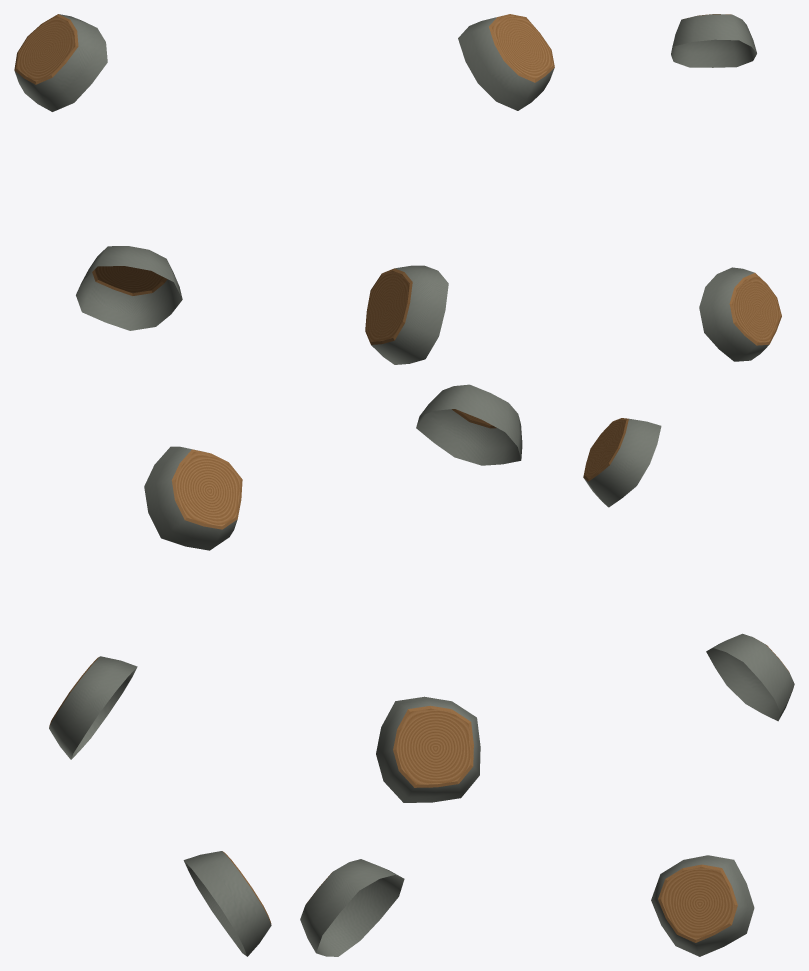
The model's file is Beech_Mature_02_MediumPruned_Recent_LOD1.fbx.
3 renders of one model, left to right at view 1: azimuth 30°, elevation 25°; view 2: azimuth 150°, elevation 25°; view 3: azimuth 270°, elevation 25°, orthographic. The views are drawn at different scales.
Visible parts, largest first — view 1: Beech_Mature_02_MediumPruned_Recent_LOD1_Scars; view 2: Beech_Mature_02_MediumPruned_Recent_LOD1_Scars; view 3: Beech_Mature_02_MediumPruned_Recent_LOD1_Scars.
Boxes of the visible parts, <box> form: Beech_Mature_02_MediumPruned_Recent_LOD1_Scars: <box>14,14,271,956</box>; Beech_Mature_02_MediumPruned_Recent_LOD1_Scars: <box>300,14,554,956</box>; Beech_Mature_02_MediumPruned_Recent_LOD1_Scars: <box>583,14,794,956</box>.
Size of what is drawn, in the model's own units: 75.02 by 297 by 65.34.
2 materials, 2 textured.
